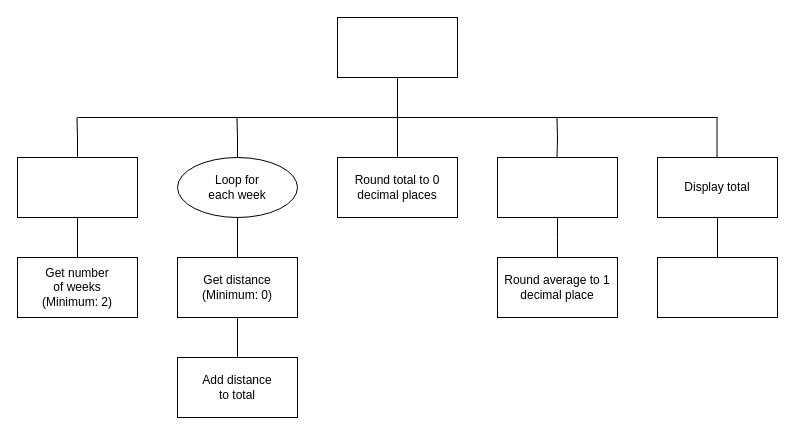
This 795x435 diagram has some shape labels left out. Each missing label, with the centre of its shape:
"Calculate average" belongs at point (557, 187).
"Display average" belongs at point (717, 287).
"Initialise variables" belongs at point (77, 187).
"Walking Distance Calculator" belongs at point (397, 47).
